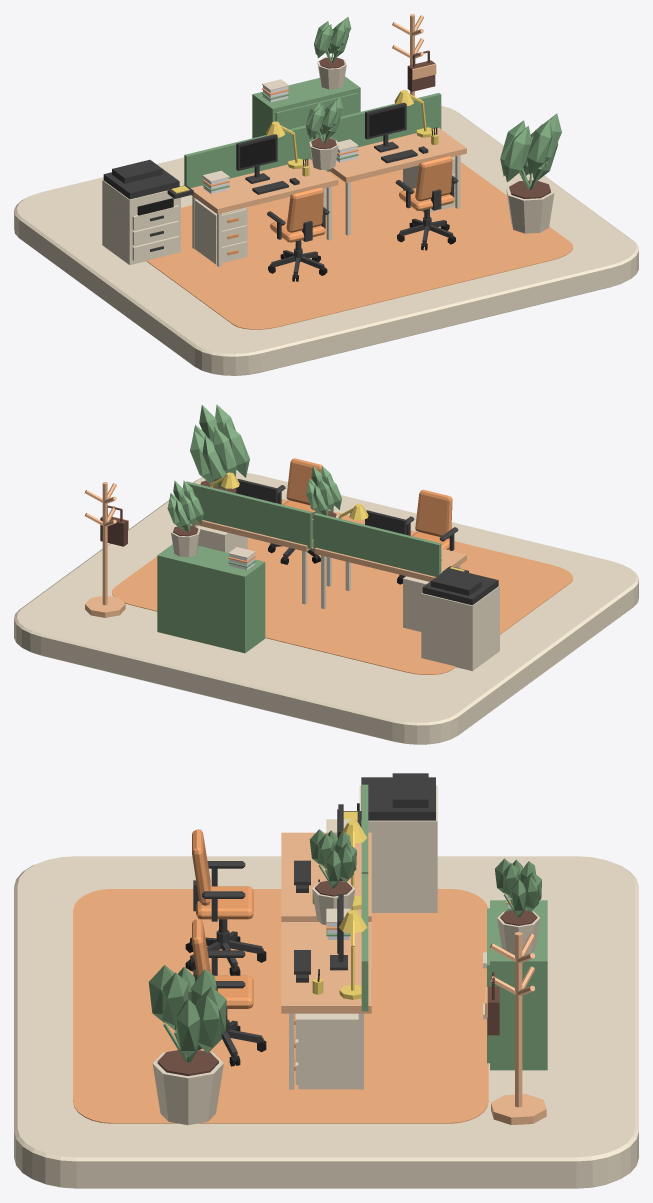
The picture shows the model from 3 angles, top to bottom: view 1: azimuth 30°, elevation 25°; view 2: azimuth 150°, elevation 25°; view 3: azimuth 270°, elevation 25°; orthographic projection. The views are drawn at different scales.
Parts seen in each view (by area): view 1: AST-001-0, AST-002-0, AST-009-0, AST-010-2, AST-004-0, AST-004-1, AST-015-0, AST-003-0, AST-003-1, AST-013-0, AST-008-0, AST-013-1 (+9 smaller); view 2: AST-001-0, AST-002-0, AST-015-0, AST-009-0, AST-013-0, AST-013-1, AST-010-2, AST-003-0, AST-010-1, AST-016-0, AST-004-0, AST-003-1 (+8 smaller); view 3: AST-001-0, AST-002-0, AST-009-0, AST-010-2, AST-004-1, AST-015-0, AST-008-1, AST-003-0, AST-016-0, AST-004-0, AST-003-1, AST-010-1 (+6 smaller).
Boxes of the visible parts, box(x1,y1,x2,y2) form: AST-001-0: box(14, 105, 638, 375); AST-002-0: box(146, 162, 572, 329); AST-009-0: box(102, 159, 193, 264); AST-010-2: box(500, 113, 561, 233); AST-004-0: box(191, 159, 338, 266); AST-004-1: box(323, 127, 466, 235); AST-015-0: box(252, 76, 360, 171); AST-003-0: box(267, 187, 329, 281); AST-003-1: box(395, 155, 458, 250); AST-013-0: box(184, 125, 312, 187); AST-008-0: box(194, 199, 247, 264); AST-013-1: box(313, 93, 441, 147); AST-001-0: box(14, 472, 638, 744); AST-002-0: box(112, 499, 572, 674); AST-015-0: box(157, 544, 265, 653); AST-009-0: box(421, 566, 499, 670); AST-013-0: box(313, 513, 441, 576); AST-013-1: box(186, 481, 312, 548); AST-010-2: box(190, 404, 249, 493); AST-003-0: box(397, 489, 458, 584); AST-010-1: box(167, 480, 203, 557); AST-016-0: box(85, 482, 125, 617); AST-004-0: box(314, 547, 466, 608); AST-003-1: box(268, 458, 322, 564); AST-001-0: box(14, 856, 638, 1188); AST-002-0: box(73, 889, 488, 1123); AST-009-0: box(343, 773, 437, 912); AST-010-2: box(148, 965, 226, 1125); AST-004-1: box(281, 922, 371, 1089); AST-015-0: box(483, 900, 547, 1070); AST-008-1: box(294, 1013, 358, 1089); AST-003-0: box(185, 829, 266, 975); AST-016-0: box(489, 932, 546, 1124); AST-004-0: box(281, 832, 371, 921); AST-003-1: box(192, 918, 266, 1066); AST-010-1: box(495, 858, 541, 954).
Bounding box in the file's own units: 6 × 2.16 × 5.2.
1 material, 1 textured.
